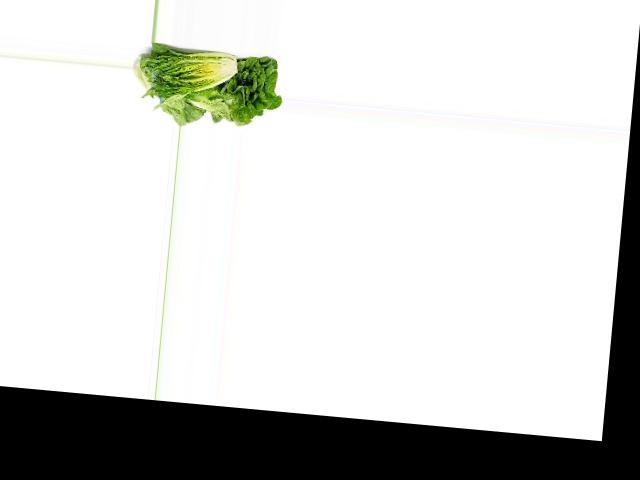lettuce: (189, 45, 283, 129)
